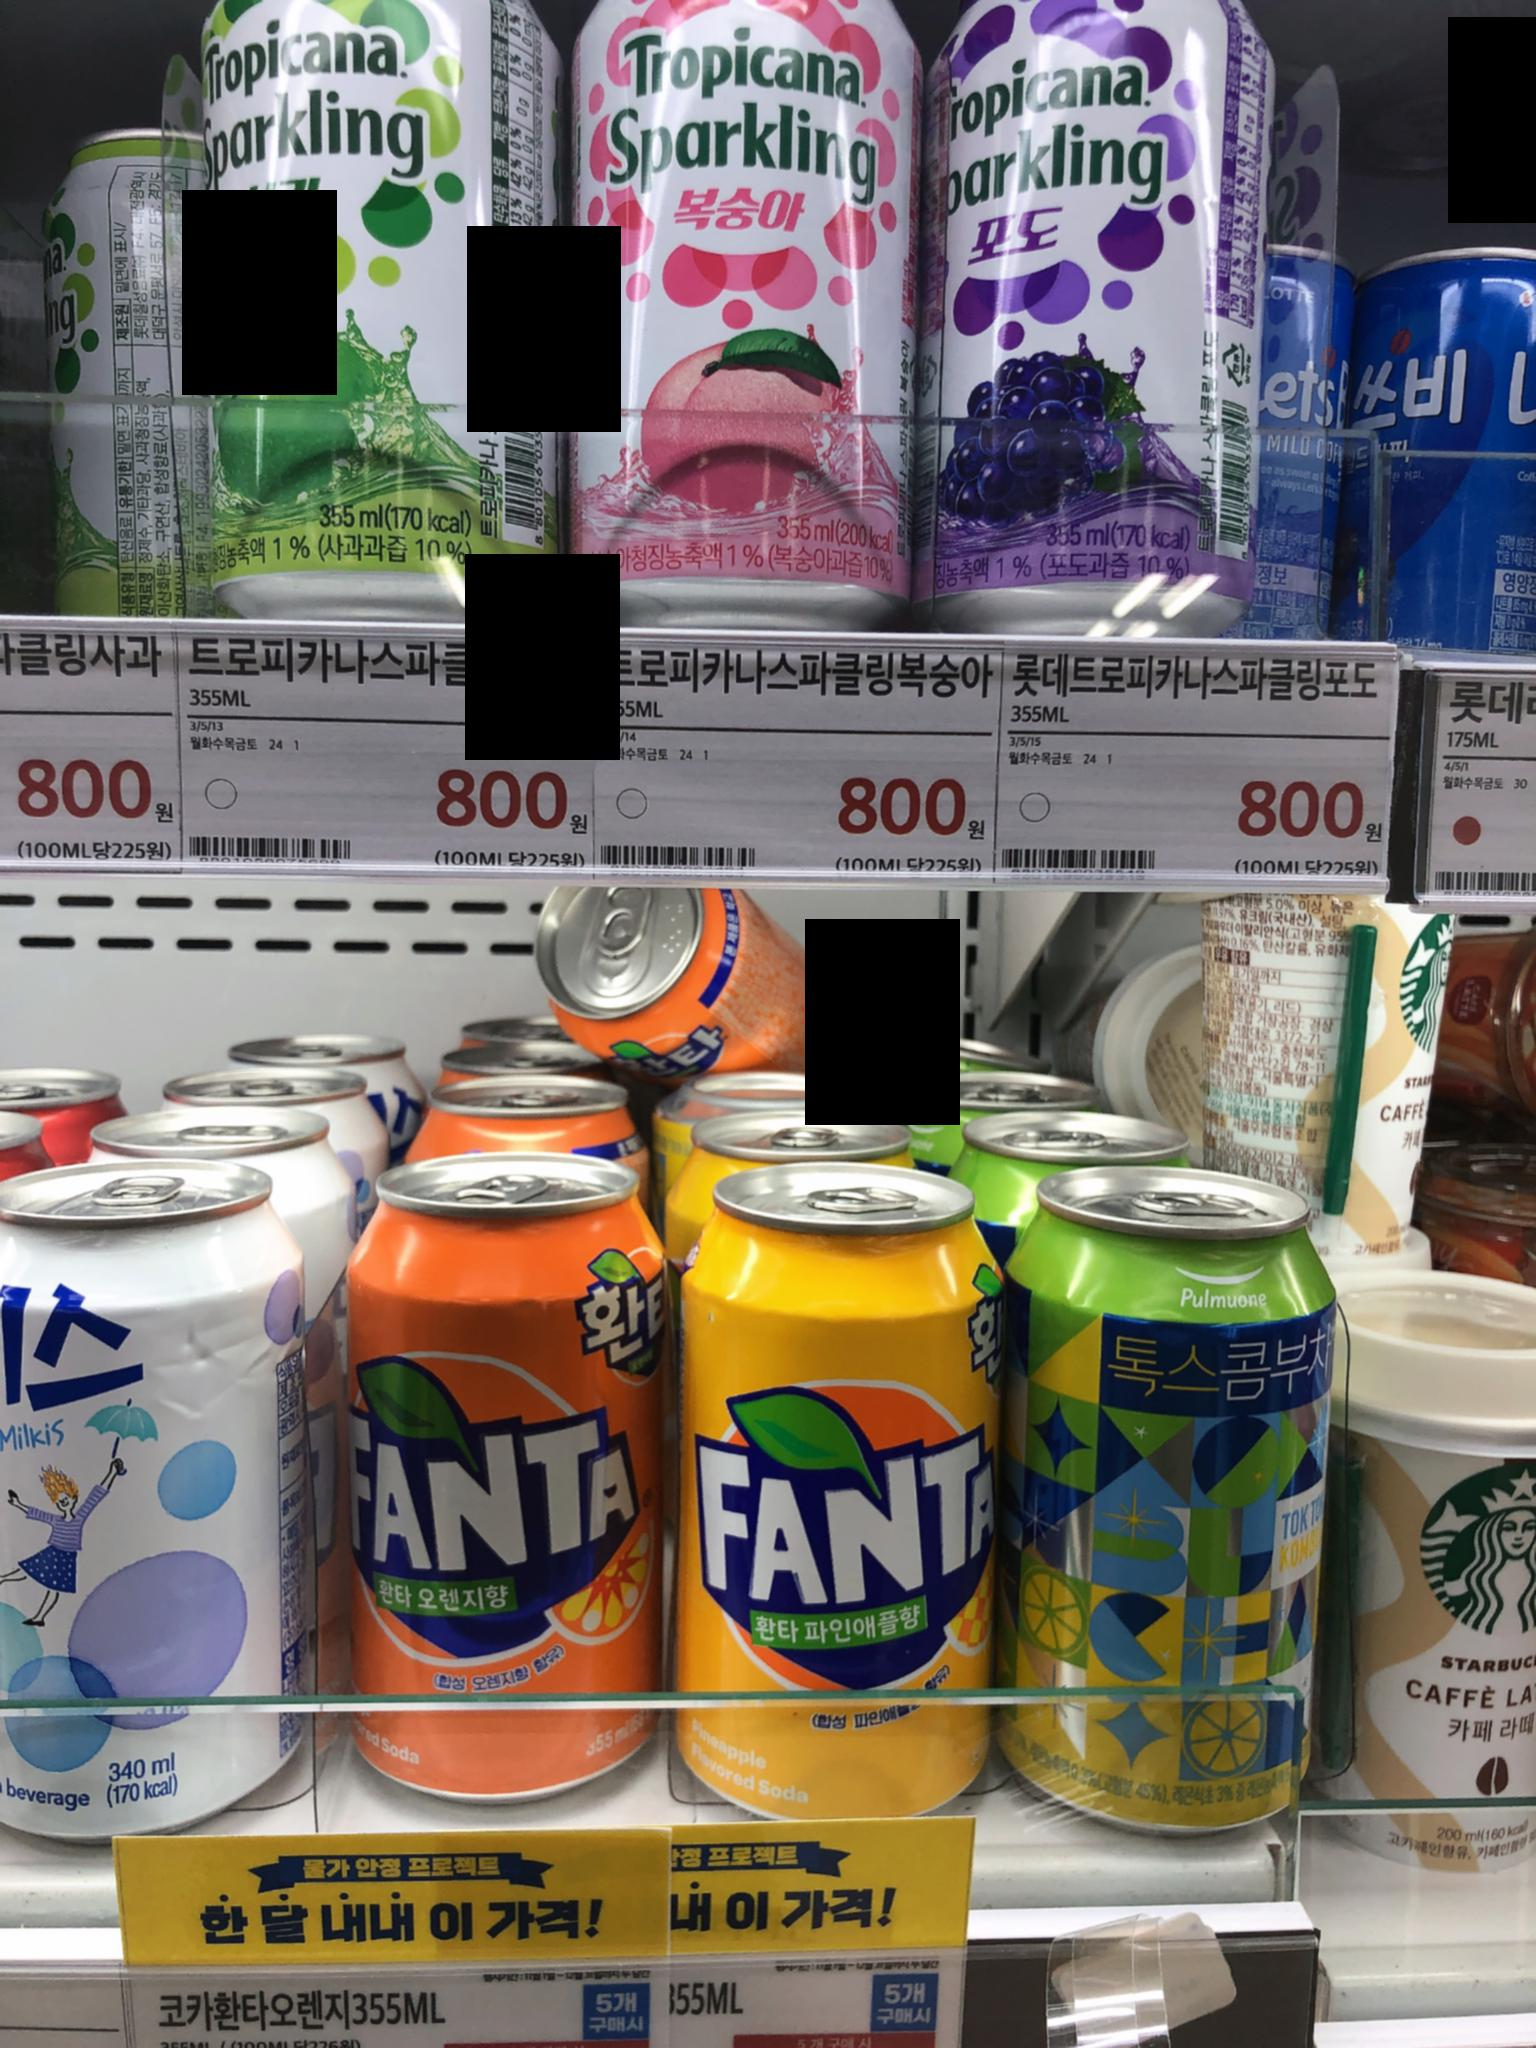fanta_orange: (358, 1137, 670, 1811)
